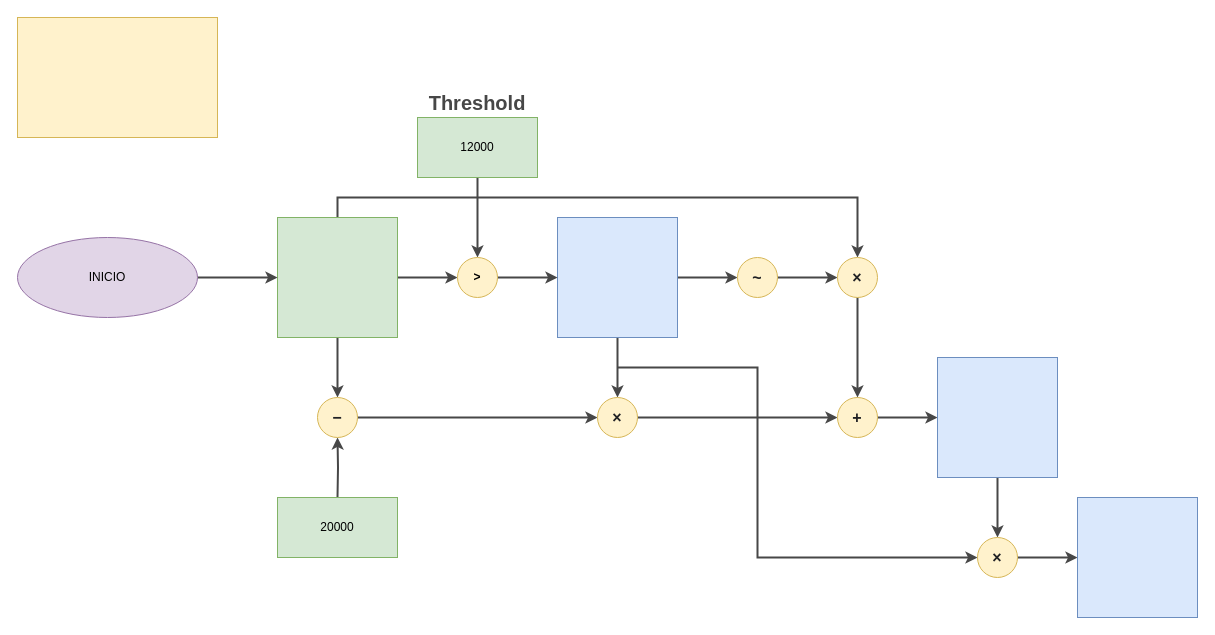
This 1215x635 diagram has some shape labels left out. Here are the shapes that lost their labels. From the top down, the centre of each, then its label:
the point at 117,77: Spureous peaks detection and sample thresholding
the point at 337,277: Matriz de strain (muestras espaciales x 1 minuto)
the point at 617,277: Ref_updates (muestras espaciales x 1 minuto)
the point at 997,417: Variations (muestras espaciales x 1 minuto)
the point at 1137,557: Res (muestras espaciales x 1 minuto)
